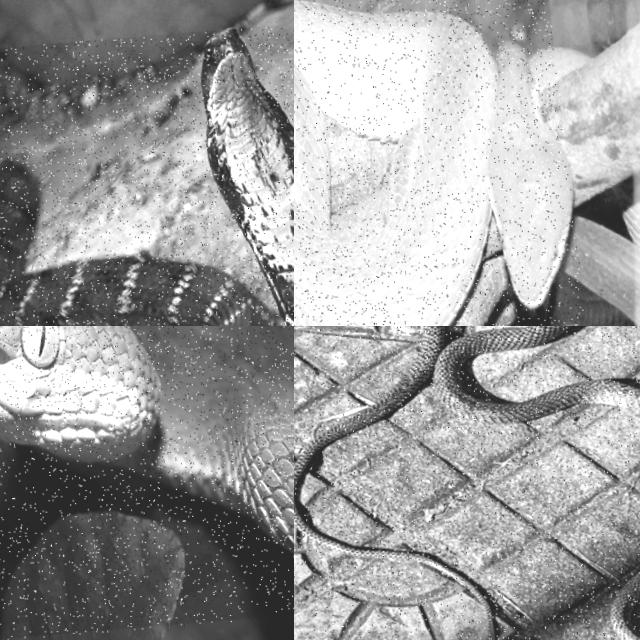Chrysopelea ornata: (294, 326, 639, 639)
Ophiophagus hannah: (0, 161, 277, 325)
Trimeresurus: (294, 2, 498, 325)
Trimeresurus macrops: (0, 326, 293, 554)
